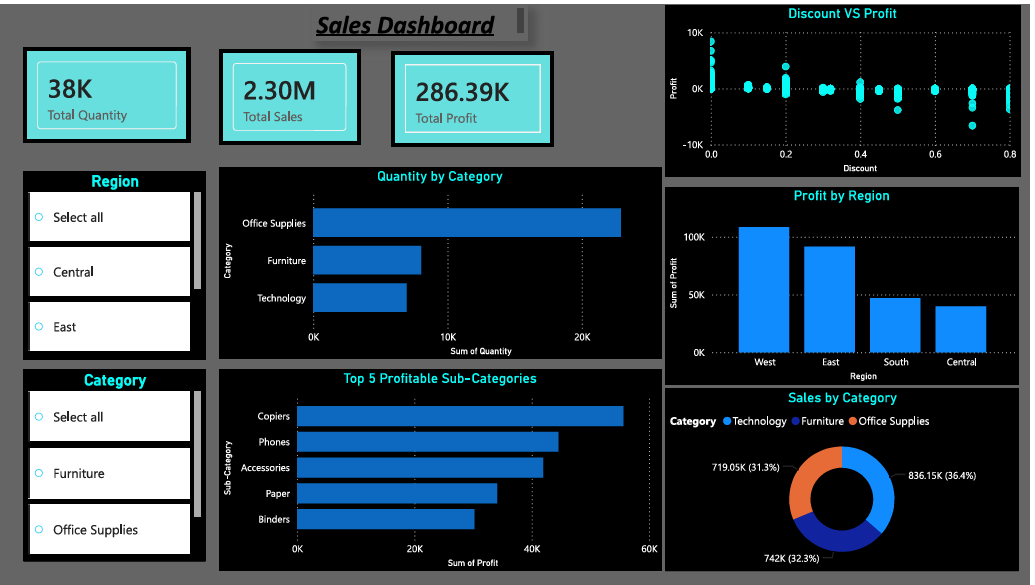

The page's visual inventory and layout, read from the dashboard file:
{"tool":"powerbi","page":{"name":"Page 1","canvas":[1280,720],"ordinal":0},"visuals":[{"type":"textbox","box":[388.9,0,268.1,44.4],"z":0},{"type":"donutChart","title":"Sales by Category","fields":{"Category":["SampleSuperstore.Category"],"Y":["Sum(SampleSuperstore.Sales)"]},"box":[827.5,475.9,438.6,227.3],"z":1000},{"type":"clusteredBarChart","title":"Top 5 Profitable Sub-Categories","fields":{"Y":["Sum(SampleSuperstore.Profit)"],"Category":["SampleSuperstore.Sub-Category"]},"box":[273.5,452.8,548.7,250.4],"z":2000},{"type":"scatterChart","title":"Discount VS Profit","fields":{"X":["SampleSuperstore.Discount"],"Y":["SampleSuperstore.Profit"]},"box":[827.5,0,440.4,213.1],"z":3000},{"type":"clusteredBarChart","title":"Quantity by Category","fields":{"Y":["Sum(SampleSuperstore.Quantity)"],"Category":["SampleSuperstore.Category"]},"box":[273.5,202.4,548.7,237.9],"z":4000},{"type":"columnChart","title":"Profit by Region","fields":{"Category":["SampleSuperstore.Region"],"Y":["Sum(SampleSuperstore.Profit)"]},"box":[827.5,225.5,438.6,245],"z":5000},{"type":"cardVisual","fields":{"Data":["Sum(SampleSuperstore.Sales)"]},"box":[273.5,55,175.8,119],"z":6000},{"type":"cardVisual","fields":{"Data":["Sum(SampleSuperstore.Profit)"]},"box":[486.5,56.8,202.4,119],"z":7000},{"type":"cardVisual","fields":{"Data":["Sum(SampleSuperstore.Quantity)"]},"box":[30.2,53.3,207.8,119],"z":8000},{"type":"advancedSlicerVisual","fields":{"Values":["SampleSuperstore.Region"]},"box":[30.2,206,225.5,234.4],"z":9000},{"type":"advancedSlicerVisual","fields":{"Values":["SampleSuperstore.Category"]},"box":[30.2,452.8,225.5,237.9],"z":10000}]}

Visuals, with their boxes in screenshot pixels (x1, y1, x2, y2), scaled from the page's 1280x720 canvas onto the 1035x585 screenshot:
textbox: [x1=314, y1=0, x2=531, y2=36]
"Sales by Category" donutChart: [x1=669, y1=387, x2=1024, y2=571]
"Top 5 Profitable Sub-Categories" clusteredBarChart: [x1=221, y1=368, x2=665, y2=571]
"Discount VS Profit" scatterChart: [x1=669, y1=0, x2=1025, y2=173]
"Quantity by Category" clusteredBarChart: [x1=221, y1=164, x2=665, y2=358]
"Profit by Region" columnChart: [x1=669, y1=183, x2=1024, y2=382]
cardVisual - Sum(SampleSuperstore.Sales): [x1=221, y1=45, x2=363, y2=141]
cardVisual - Sum(SampleSuperstore.Profit): [x1=393, y1=46, x2=557, y2=143]
cardVisual - Sum(SampleSuperstore.Quantity): [x1=24, y1=43, x2=192, y2=140]
advancedSlicerVisual - SampleSuperstore.Region: [x1=24, y1=167, x2=207, y2=358]
advancedSlicerVisual - SampleSuperstore.Category: [x1=24, y1=368, x2=207, y2=561]
